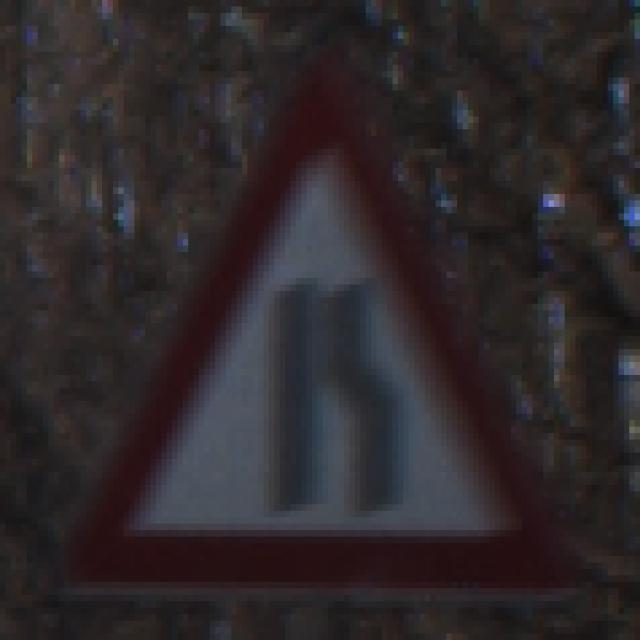narrow road ahead: (56, 65, 570, 596)
